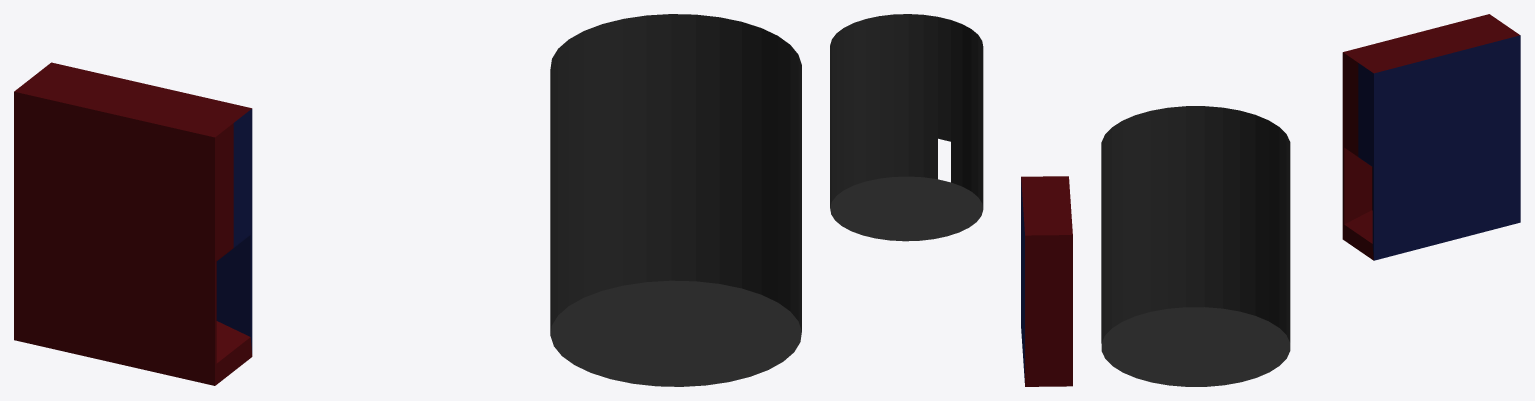
File: altarroom.fbx
3 views of the same model, side by side, from view 1: azimuth 30°, elevation 25°; view 2: azimuth 150°, elevation 25°; view 3: azimuth 270°, elevation 25° (orthographic). The views are drawn at different scales.
Visible parts, largest first — view 1: 실린더.003, 큐브.042, 큐브.069; view 2: 실린더.003, 큐브.042, 큐브.069; view 3: 실린더.003, 큐브.069, 큐브.042.
Boxes of the visible parts, x1=… form: 실린더.003: x1=550, y1=14, x2=801, y2=386; 큐브.042: x1=14, y1=62, x2=252, y2=385; 큐브.069: x1=216, y1=109, x2=252, y2=353; 실린더.003: x1=830, y1=14, x2=983, y2=241; 큐브.042: x1=1021, y1=176, x2=1072, y2=386; 큐브.069: x1=1021, y1=177, x2=1024, y2=382; 실린더.003: x1=1101, y1=106, x2=1290, y2=386; 큐브.069: x1=1358, y1=35, x2=1520, y2=260; 큐브.042: x1=1342, y1=14, x2=1519, y2=260.
Size of the model in its own units: 5342 by 2672 by 4465.
